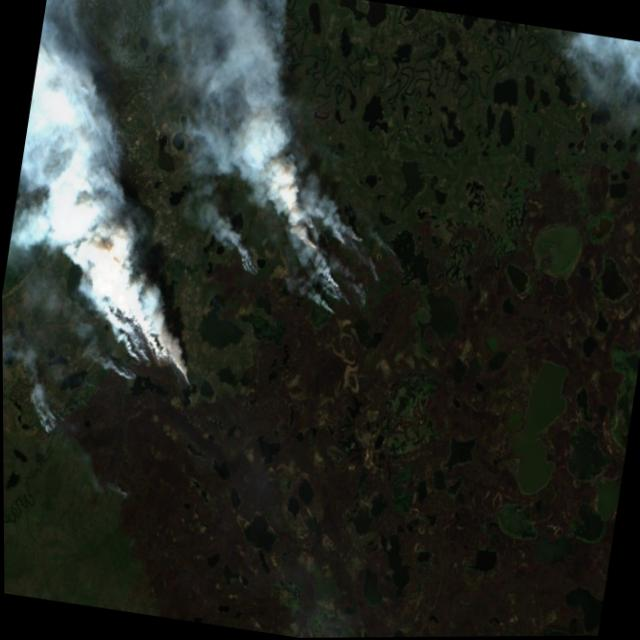fire: (16, 274, 216, 465), (263, 187, 442, 368), (227, 237, 276, 295)
